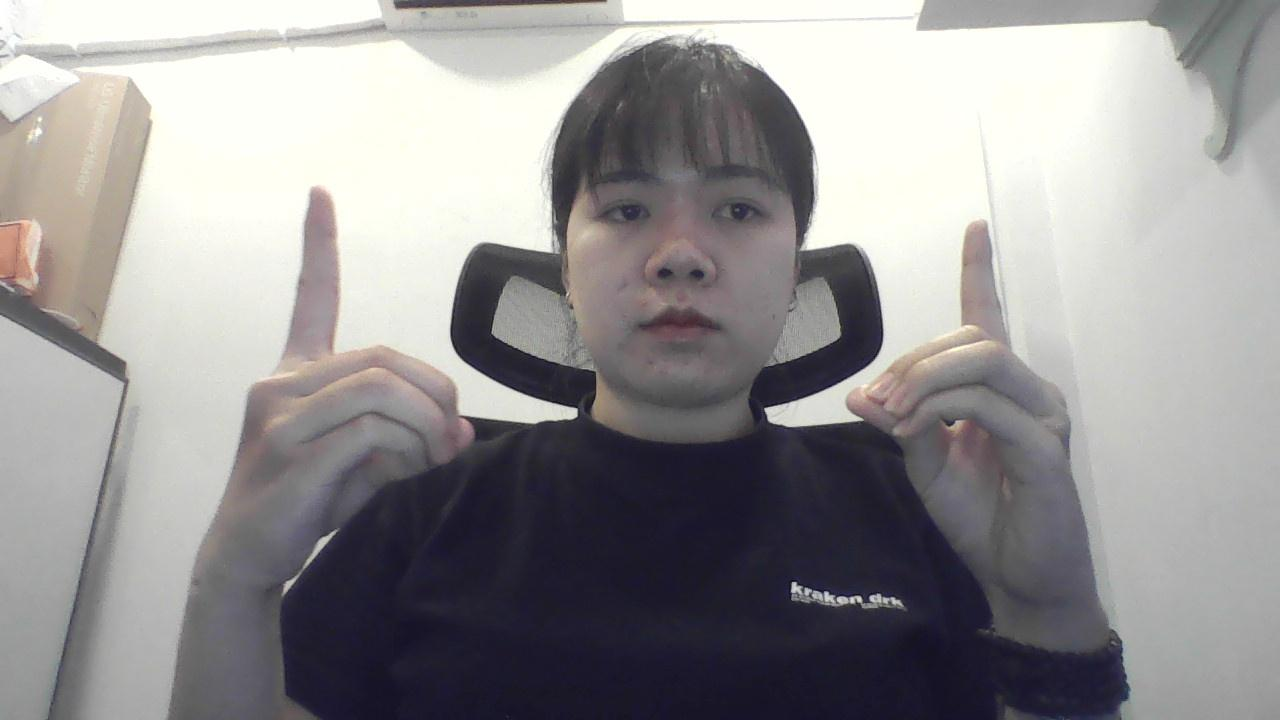D: (190, 165, 484, 597), (835, 207, 1108, 605)
